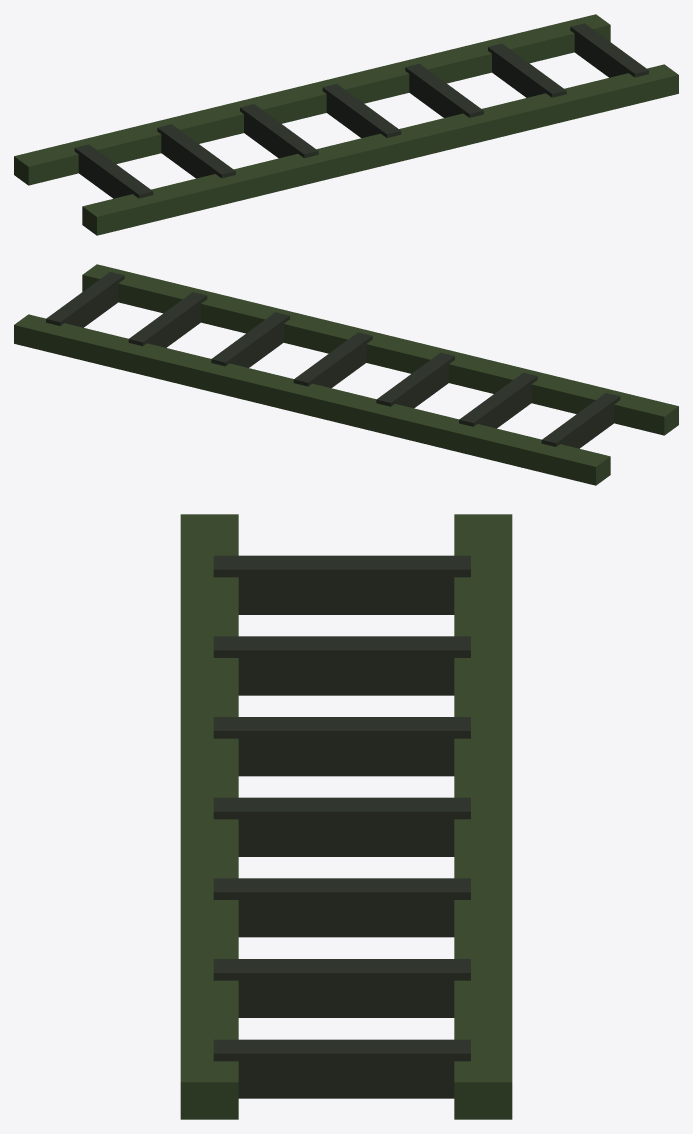
The model's file is Nhà-0.obj.
3 renders of one model, top to bottom at view 1: azimuth 30°, elevation 25°; view 2: azimuth 150°, elevation 25°; view 3: azimuth 270°, elevation 25°, orthographic. The views are drawn at different scales.
Bounding box in the file's own units: 16.2 × 0.6 × 4.
Materials: 1 (1 with a texture image).
